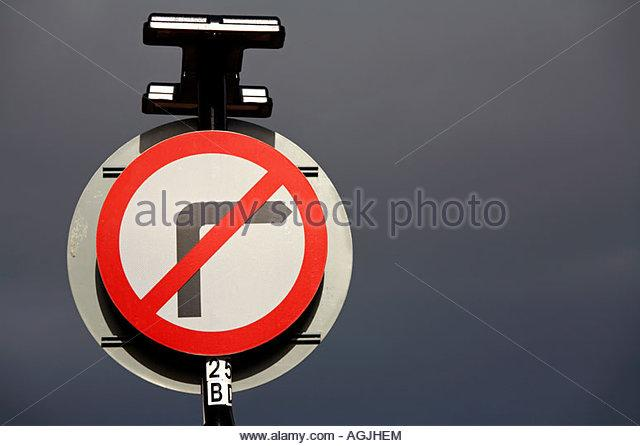no_right_turn: (94, 128, 327, 353)
